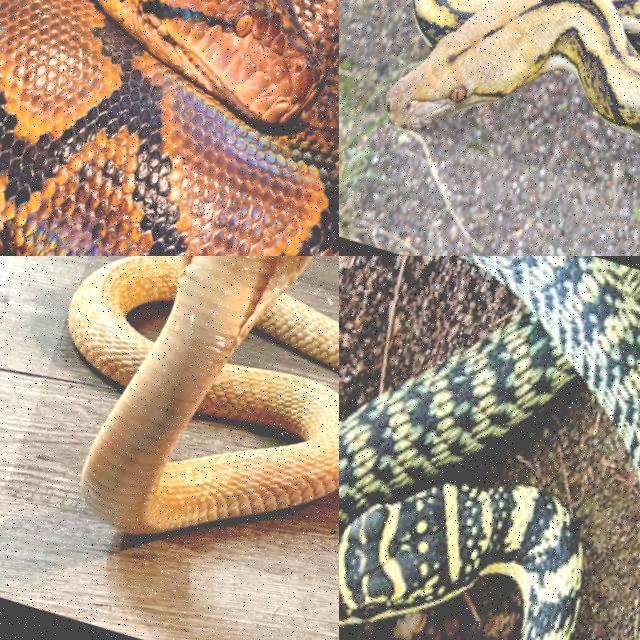Chrysopelea ornata: (339, 256, 639, 639)
Malayopython reticulatus: (0, 0, 338, 255), (387, 0, 639, 135)
Naja kaouthia: (69, 256, 338, 534)
snake: (339, 256, 639, 639), (0, 0, 338, 255), (69, 256, 338, 534), (387, 0, 639, 135)
